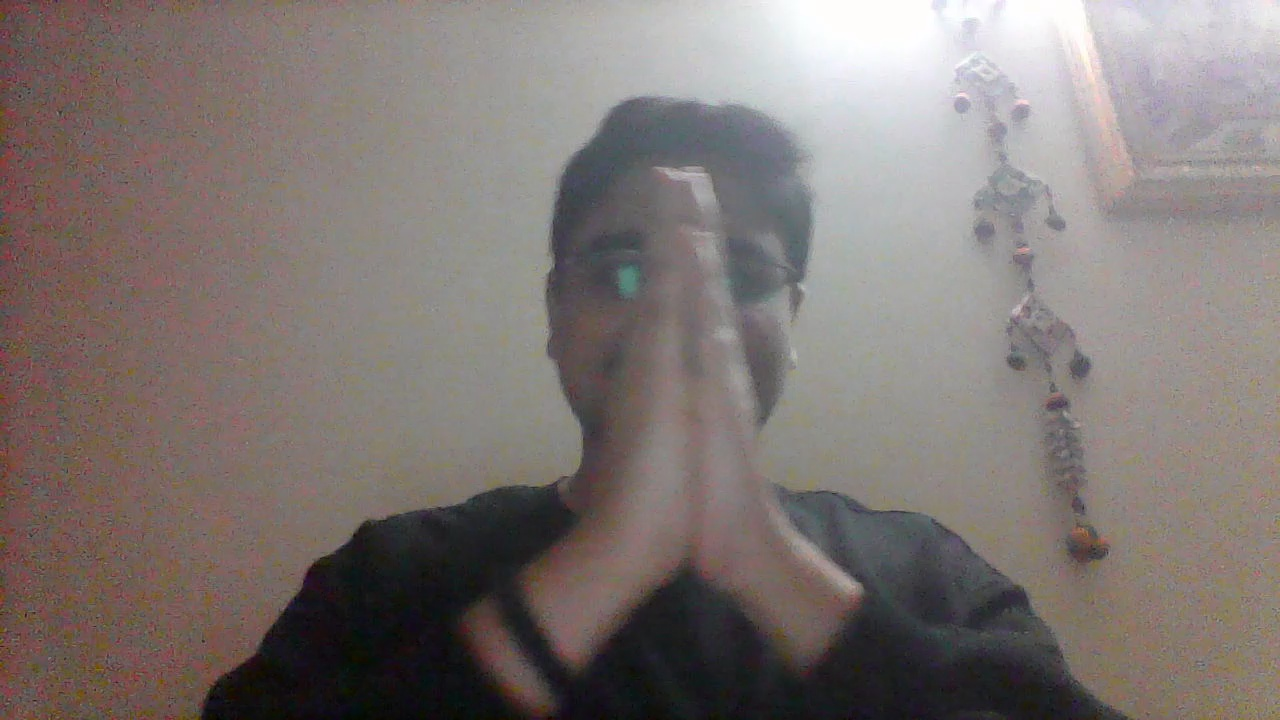Namaste: (581, 163, 807, 654)
